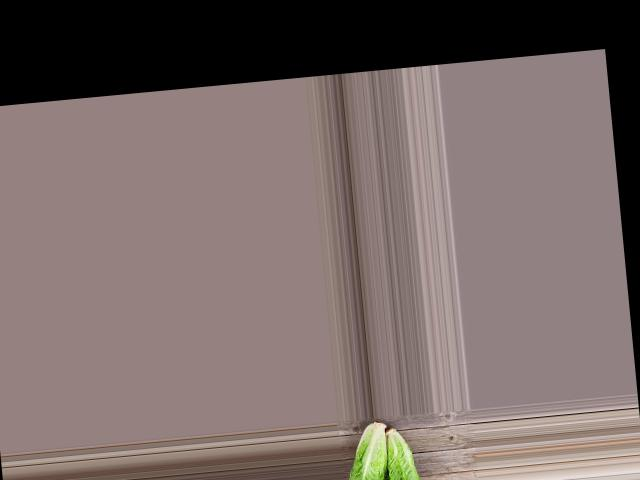lettuce: (339, 417, 393, 480)
